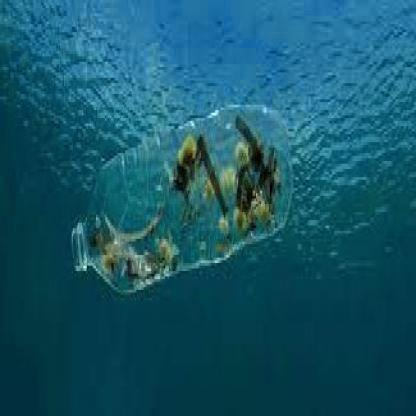pbottle: (66, 91, 296, 298)
